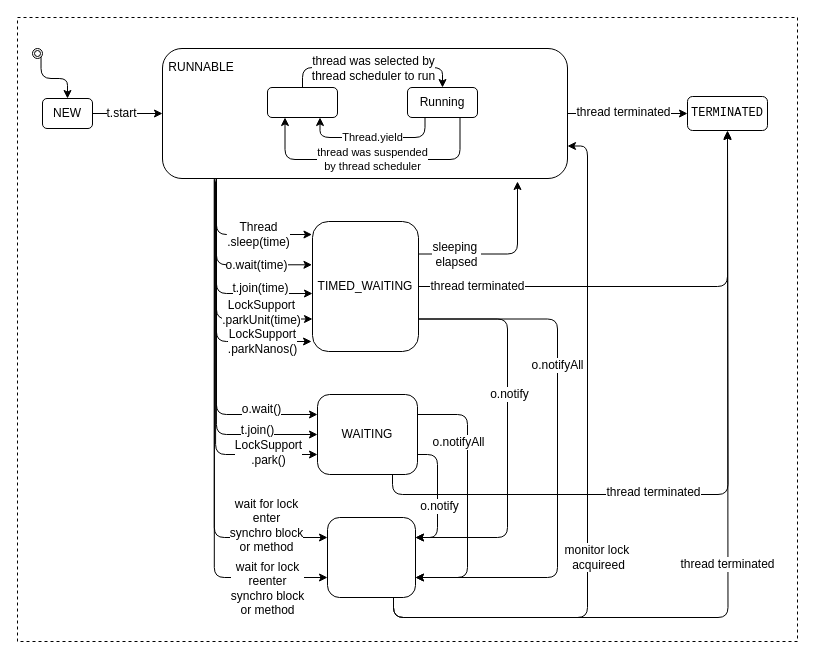
The diagram is 815 pixels wide and 659 high, and some of its shapes have lost their labels. The centre of each missing label's shape, as x and y in pixels:
BLOCKED: point (371, 557)
Ready: point (302, 102)
